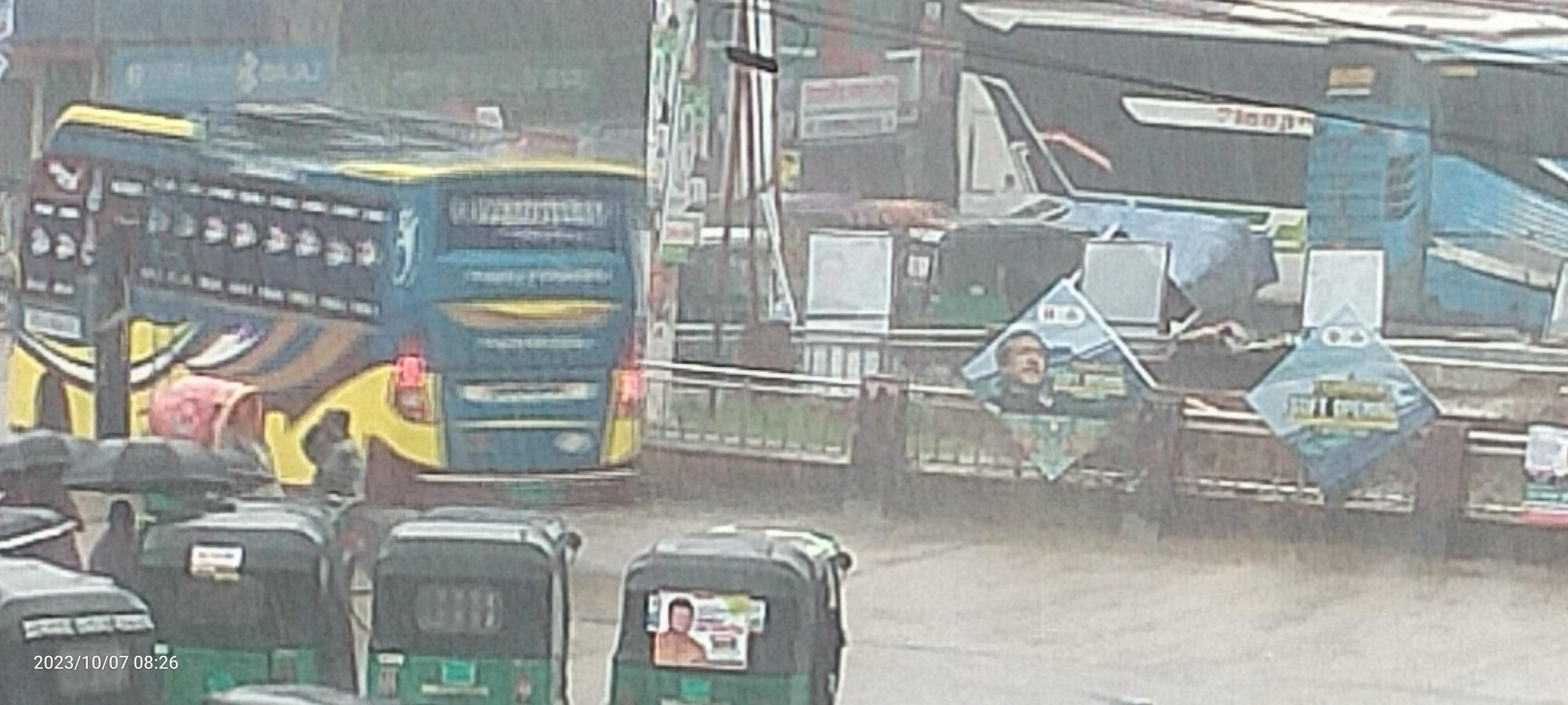Bus: (0, 81, 717, 492)
